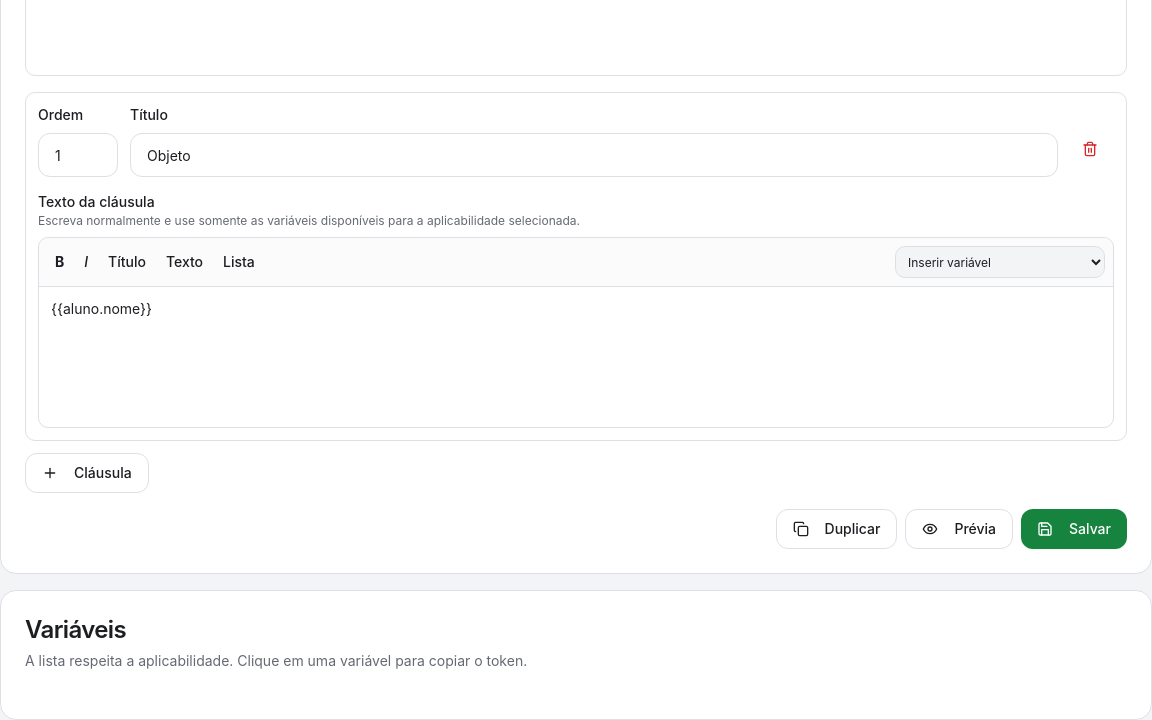
SettingsContractTemplates preview › mantém o modal aberto e mostra o erro da API no contexto da ação
(page scrolled)
Click the button "Prévia" at (959, 529), box top-left (905, 509), bottom-right (1013, 549)
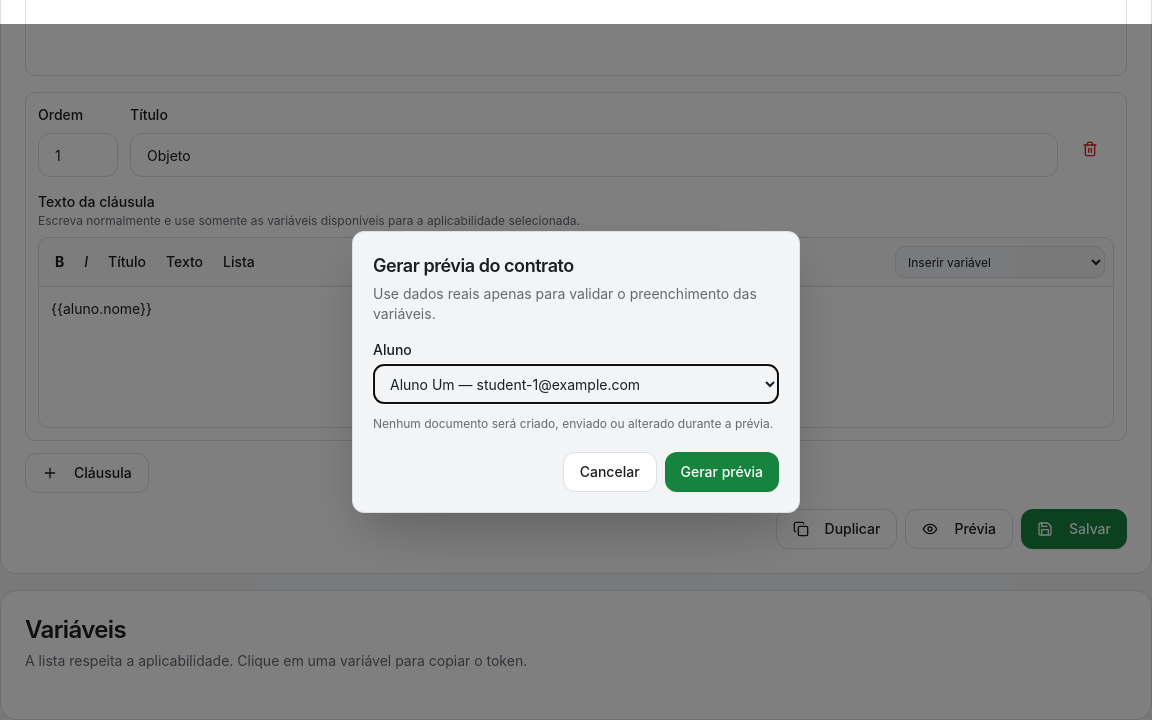
Now the dropdown labelled "Aluno" shows "Aluno Um — student-1@example.com", box top-left (373, 364), bottom-right (779, 404)
Click the button "Gerar prévia" at (722, 472), box top-left (665, 452), bottom-right (779, 492)
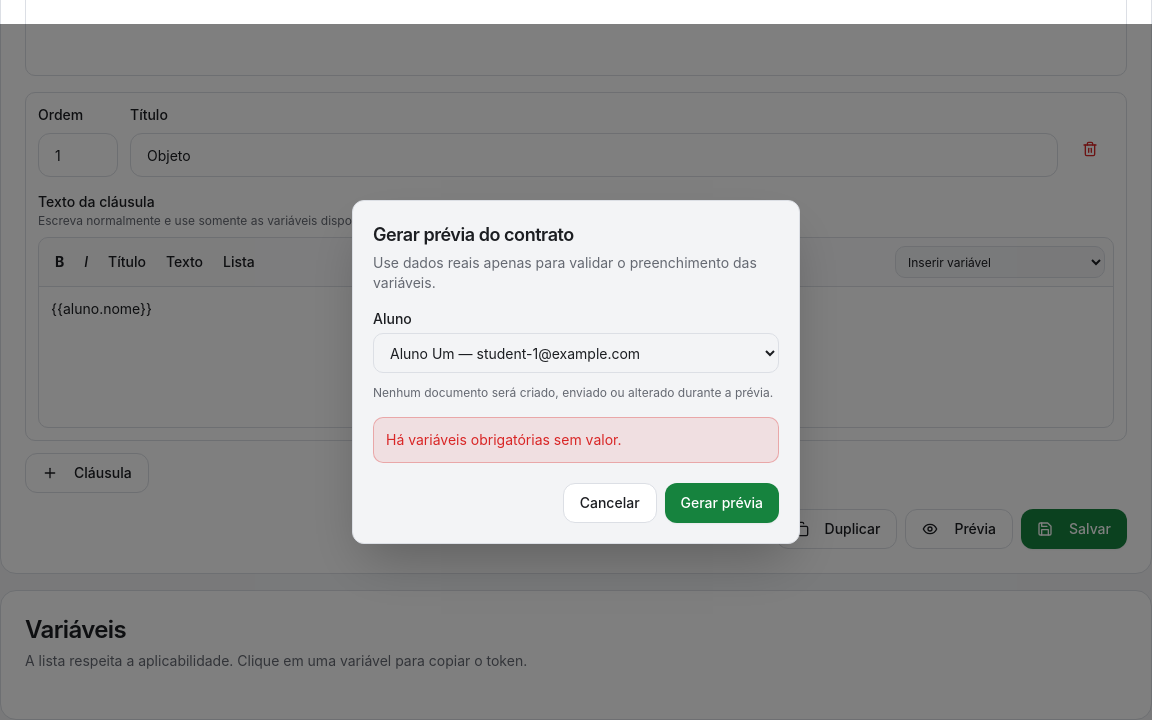
Now the dialog is shown, box top-left (352, 200), bottom-right (800, 544)
Now the message reads "Há variáveis obrigatórias sem valor.", box top-left (386, 431), bottom-right (622, 448)
Select "Aluno Dois — student-2@example.com" in the dropdown labelled "Aluno" at (576, 353), box top-left (373, 333), bottom-right (779, 373)
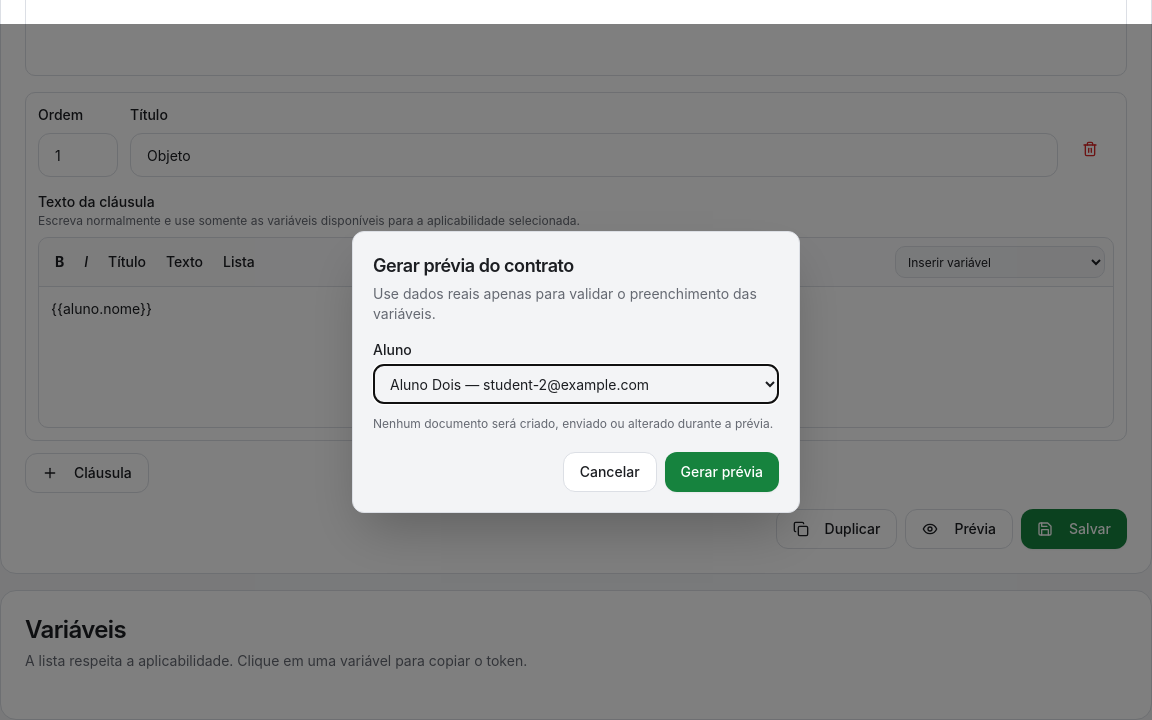
Now the message "Há variáveis obrigatórias sem valor." is gone
